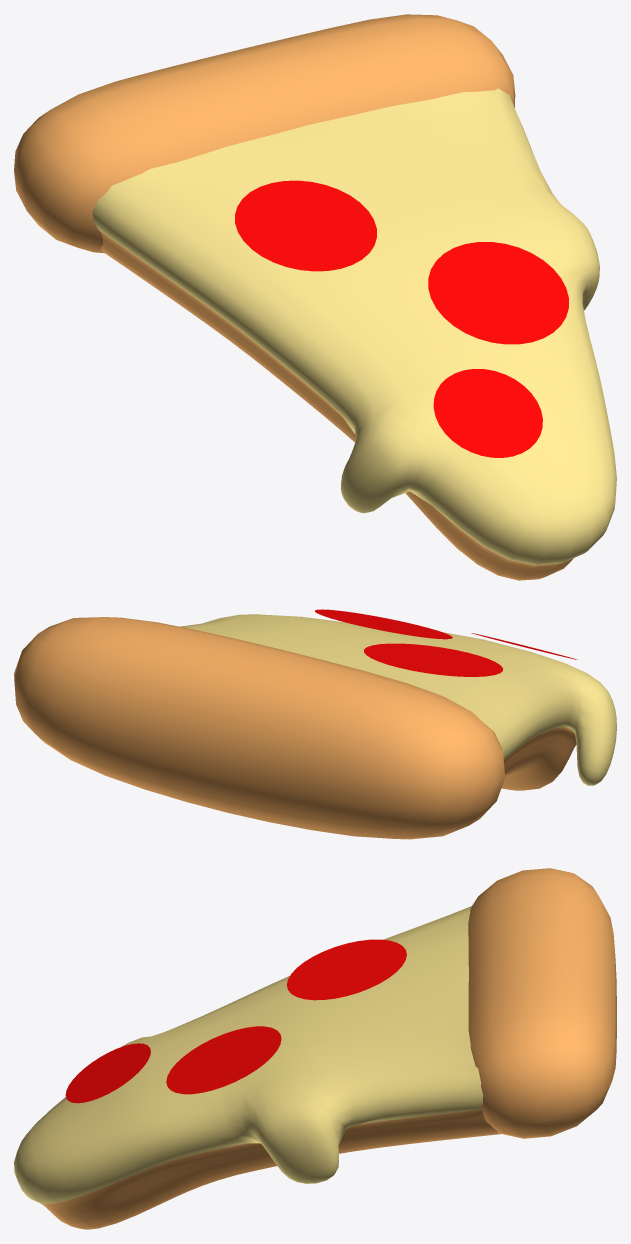
Rendered from Assets_Comida_Pizza.fbx.
3 renders of one model, top to bottom at view 1: azimuth 30°, elevation 25°; view 2: azimuth 150°, elevation 25°; view 3: azimuth 270°, elevation 25°, orthographic. The views are drawn at different scales.
Visible parts, largest first — view 1: Pizza; view 2: Pizza; view 3: Pizza.
Part boxes in pixels (x1,y1,x2,y2): Pizza: [14, 14, 616, 580]; Pizza: [14, 609, 616, 839]; Pizza: [14, 868, 616, 1229].
Bounding box in the file's own units: 73.46 × 47.84 × 92.44.
Materials: 1 (1 with a texture image).
